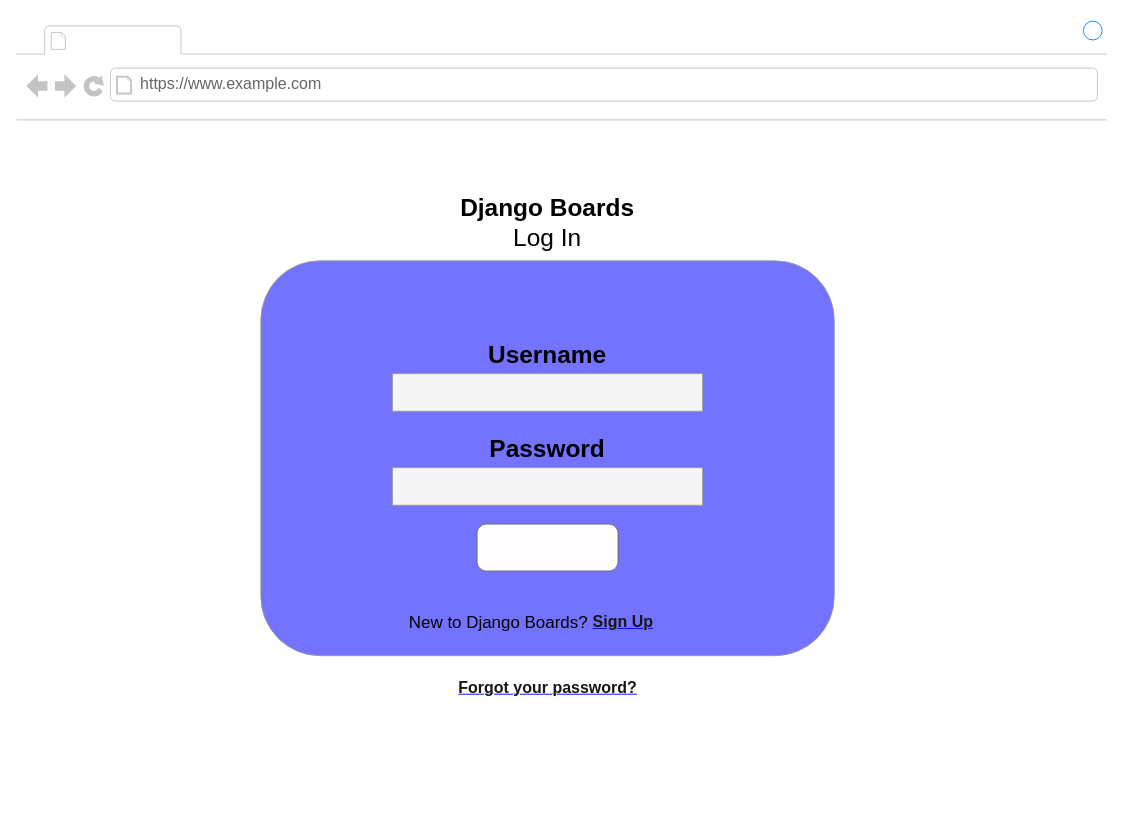
The diagram is 1123 pixels wide and 823 high, and some of its shapes have lost their labels. Each missing label, with the box of its shape:
Boards: (72, 27, 176, 52)
Log In: (476, 523, 618, 571)
